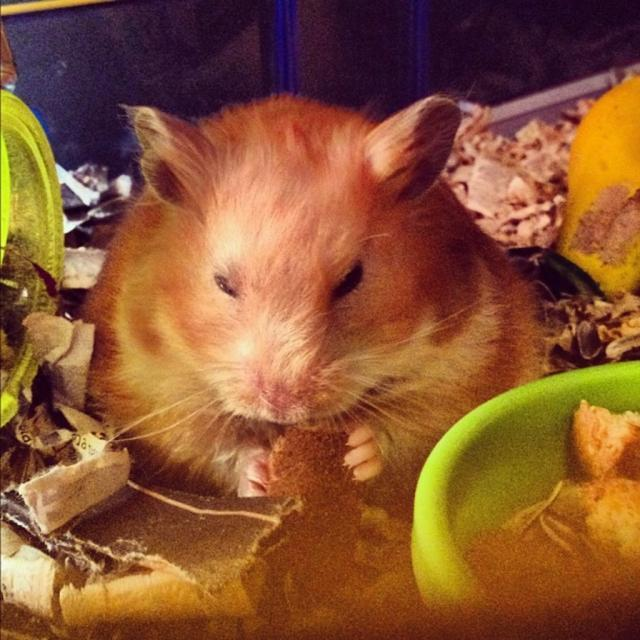rat: (85, 94, 538, 500)
